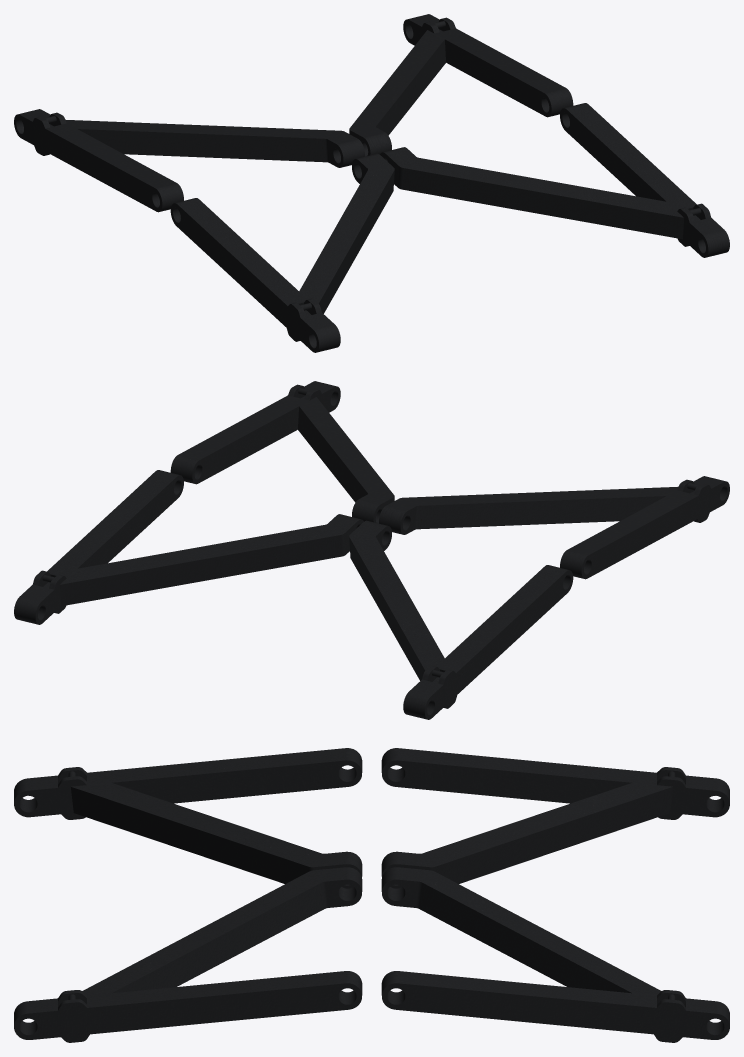
Rendered from suspension.fbx.
3 views of the same model, one above another, from view 1: azimuth 30°, elevation 25°; view 2: azimuth 150°, elevation 25°; view 3: azimuth 270°, elevation 25° (orthographic). The views are drawn at different scales.
Parts seen in each view (by area): view 1: barra-metal-suspensión-9, barra-metal-suspensión-7, barra-metal-suspensión-6, barra-metal-suspensión-8; view 2: barra-metal-suspensión-8, barra-metal-suspensión-6, barra-metal-suspensión-7, barra-metal-suspensión-9; view 3: barra-metal-suspensión-8, barra-metal-suspensión-9, barra-metal-suspensión-6, barra-metal-suspensión-7.
Part boxes in pixels (x1=…): barra-metal-suspensión-9: x1=380, y1=103, x2=729, y2=257; barra-metal-suspensión-7: x1=14, y1=109, x2=364, y2=212; barra-metal-suspensión-6: x1=170, y1=153, x2=394, y2=352; barra-metal-suspensión-8: x1=349, y1=14, x2=573, y2=156; barra-metal-suspensión-8: x1=14, y1=470, x2=363, y2=624; barra-metal-suspensión-6: x1=379, y1=476, x2=729, y2=579; barra-metal-suspensión-7: x1=349, y1=520, x2=573, y2=719; barra-metal-suspensión-9: x1=170, y1=381, x2=394, y2=523; barra-metal-suspensión-8: x1=381, y1=867, x2=729, y2=1042; barra-metal-suspensión-9: x1=14, y1=867, x2=362, y2=1042; barra-metal-suspensión-6: x1=14, y1=748, x2=362, y2=888; barra-metal-suspensión-7: x1=381, y1=748, x2=729, y2=888.
Bounding box in the file's own units: 76 × 8.98 × 97.76.
